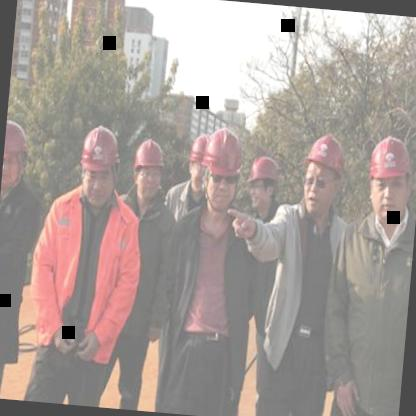helmet: (298, 128, 356, 223), (363, 133, 416, 230), (75, 121, 127, 210), (200, 123, 248, 212), (0, 113, 35, 202), (130, 136, 173, 208), (244, 152, 284, 214), (186, 132, 212, 200)
